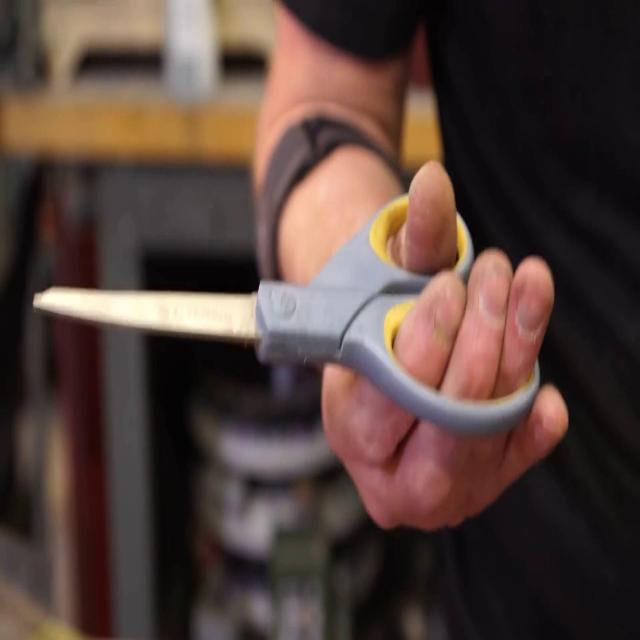scissor: (34, 190, 538, 435)
